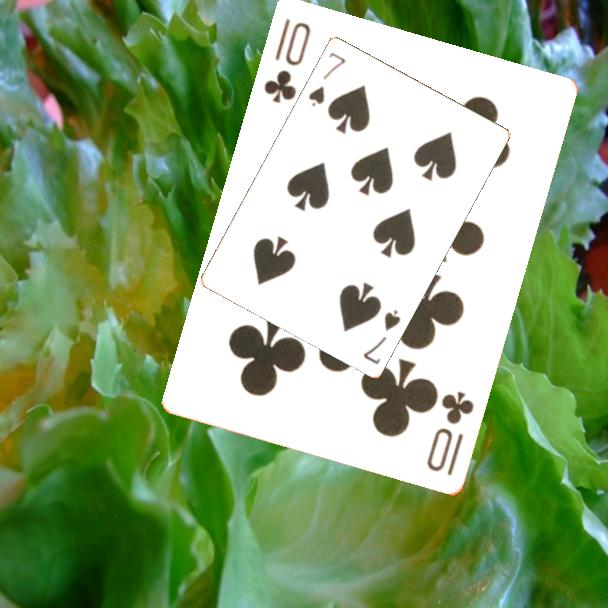c10: (423, 388, 478, 480), (260, 15, 315, 107)
s07: (305, 48, 349, 109), (360, 305, 403, 367)
